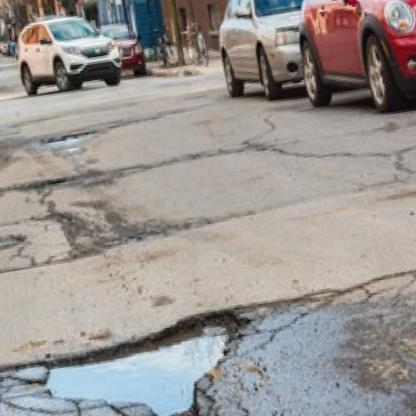pothole: (27, 302, 263, 416), (39, 129, 97, 147)
